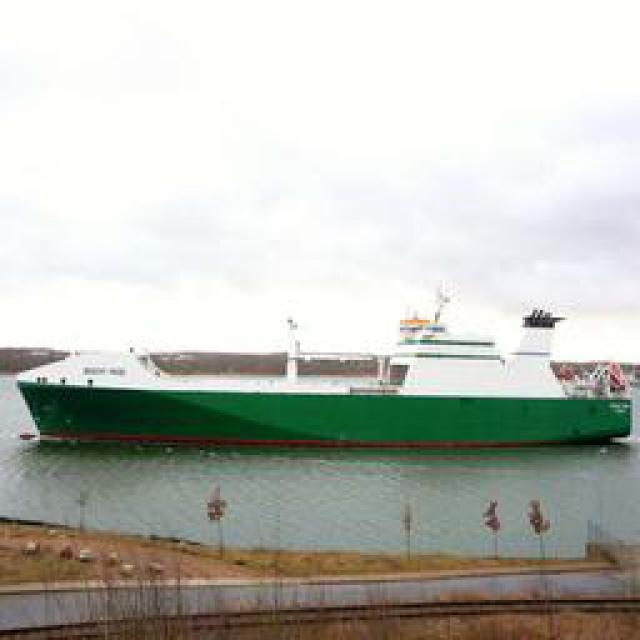Ship: (30, 331, 638, 454)
